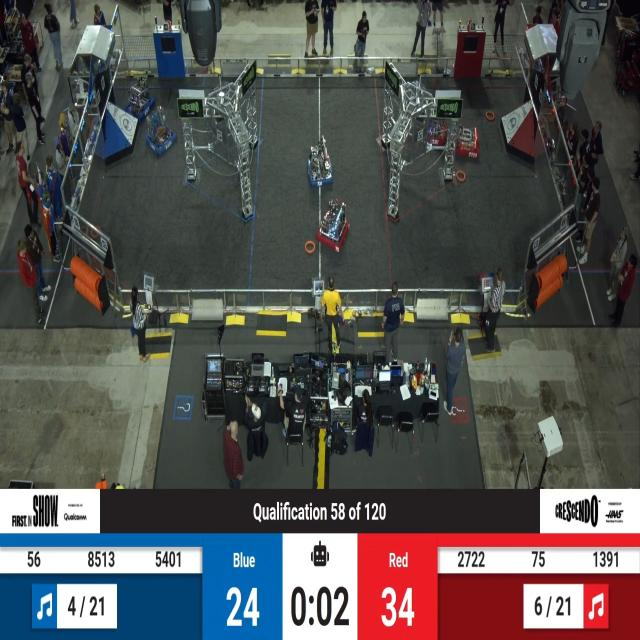Robot: (316, 194, 353, 252), (145, 105, 179, 158), (305, 132, 334, 188), (128, 71, 156, 124), (453, 121, 481, 163), (424, 103, 448, 151)
